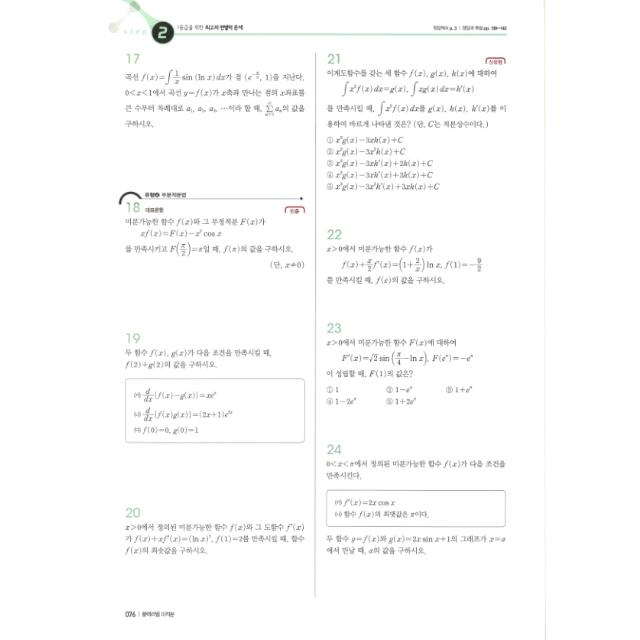multiple: (318, 42, 514, 196), (318, 315, 516, 409)
short: (118, 325, 310, 449), (321, 439, 519, 559), (110, 182, 310, 276), (118, 44, 308, 134), (320, 221, 518, 289), (117, 498, 307, 564)
